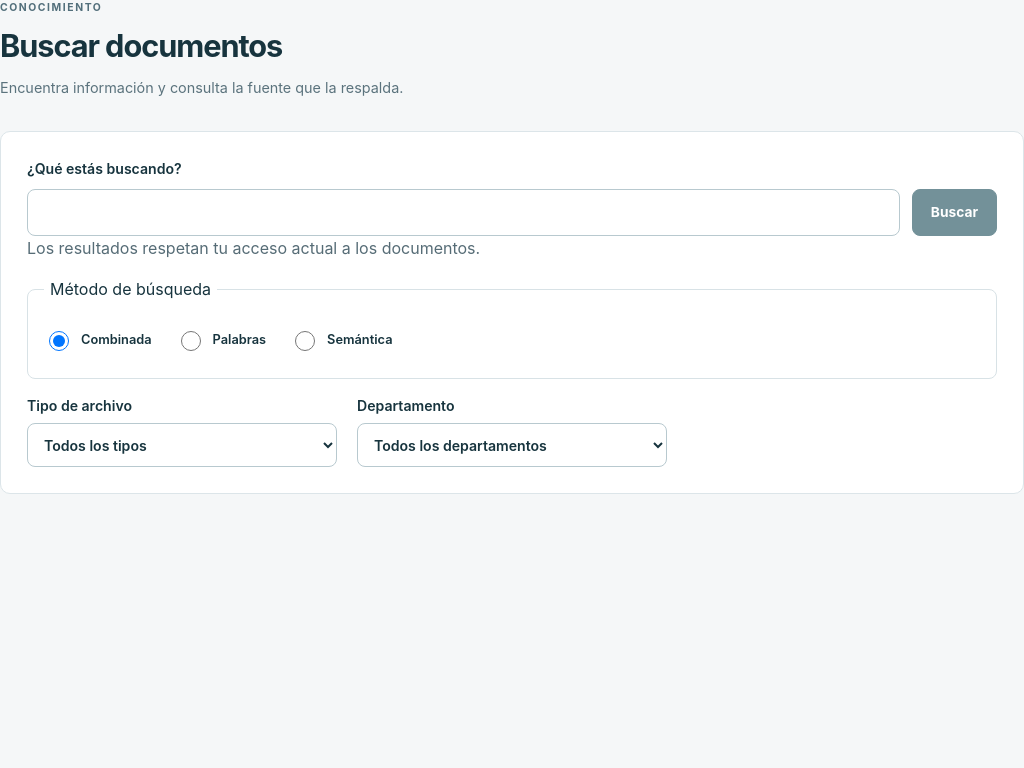
Test: displays a neutral empty state without revealing unavailable documents
Type "viajes" into the search field at point(463, 212), box [27,189,900,236]
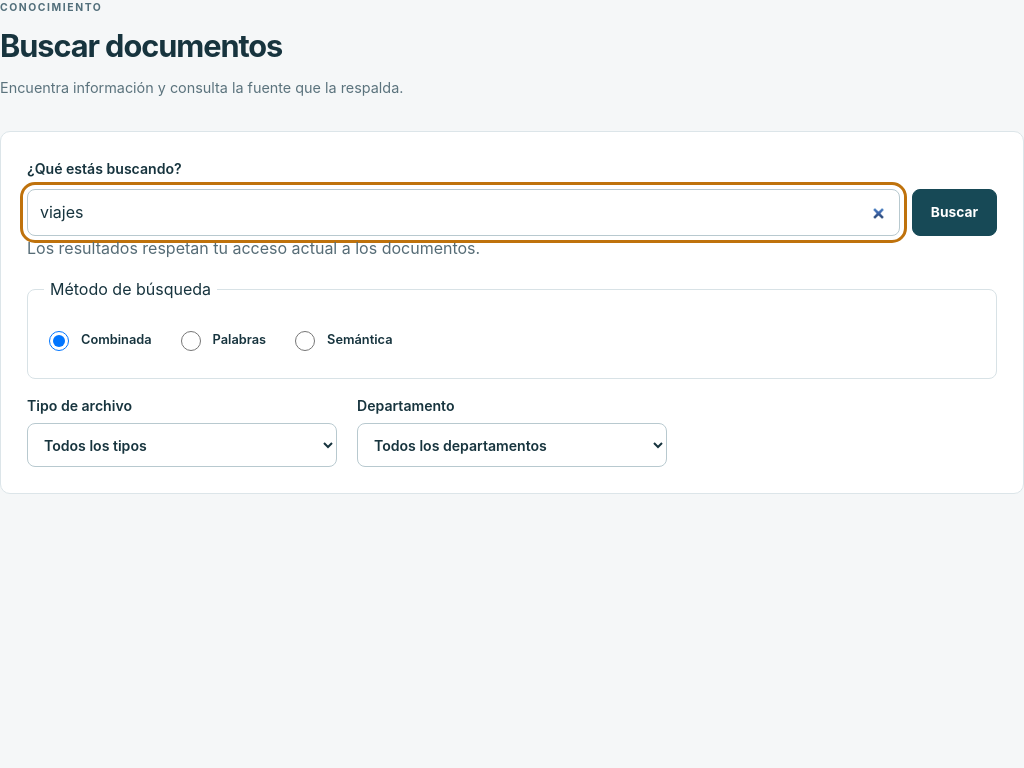
Click the button "Buscar" at point(954, 212), box [912,189,997,236]
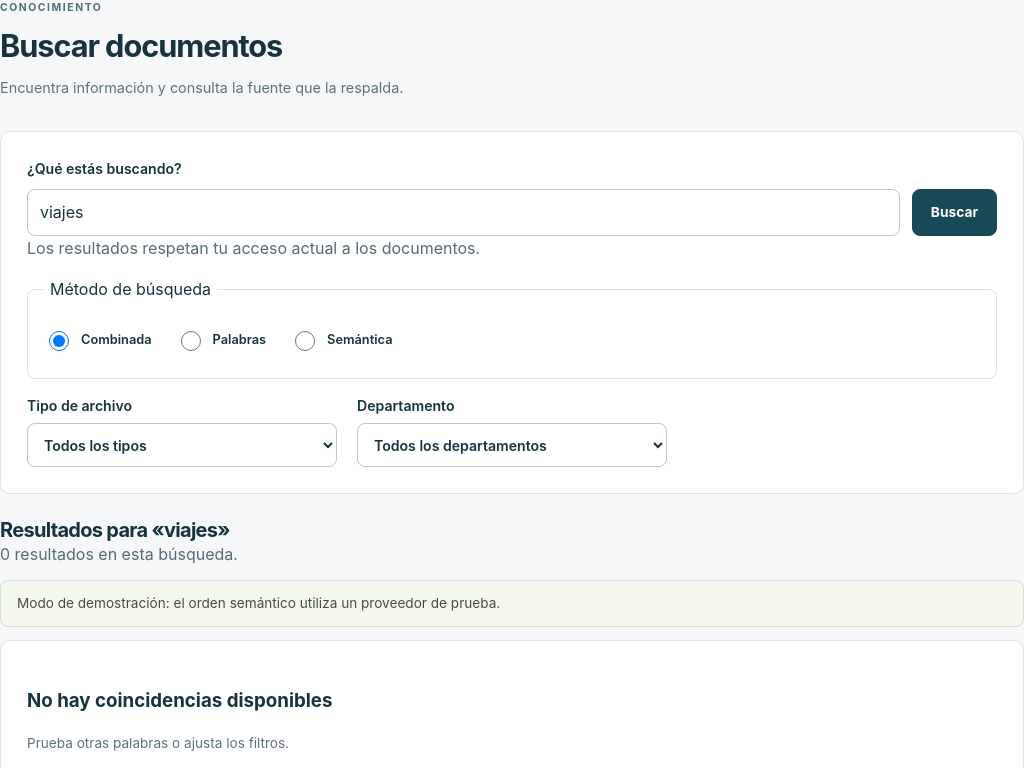
Result: the heading "No hay coincidencias disponibles" is shown at [27,688,332,712]
